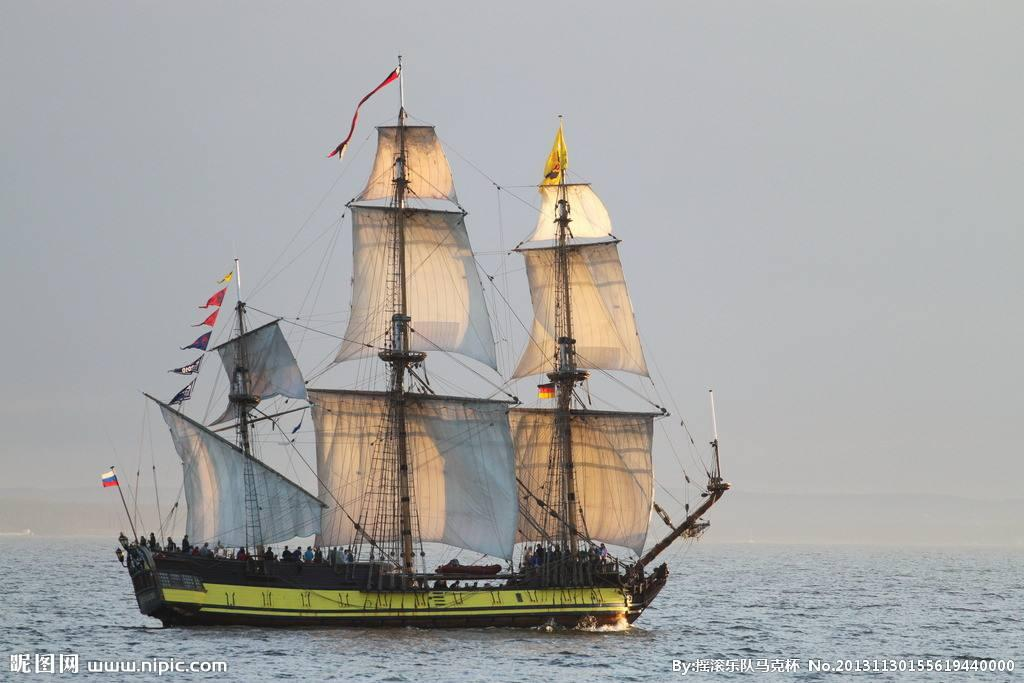fanchuan: (117, 83, 724, 622)
